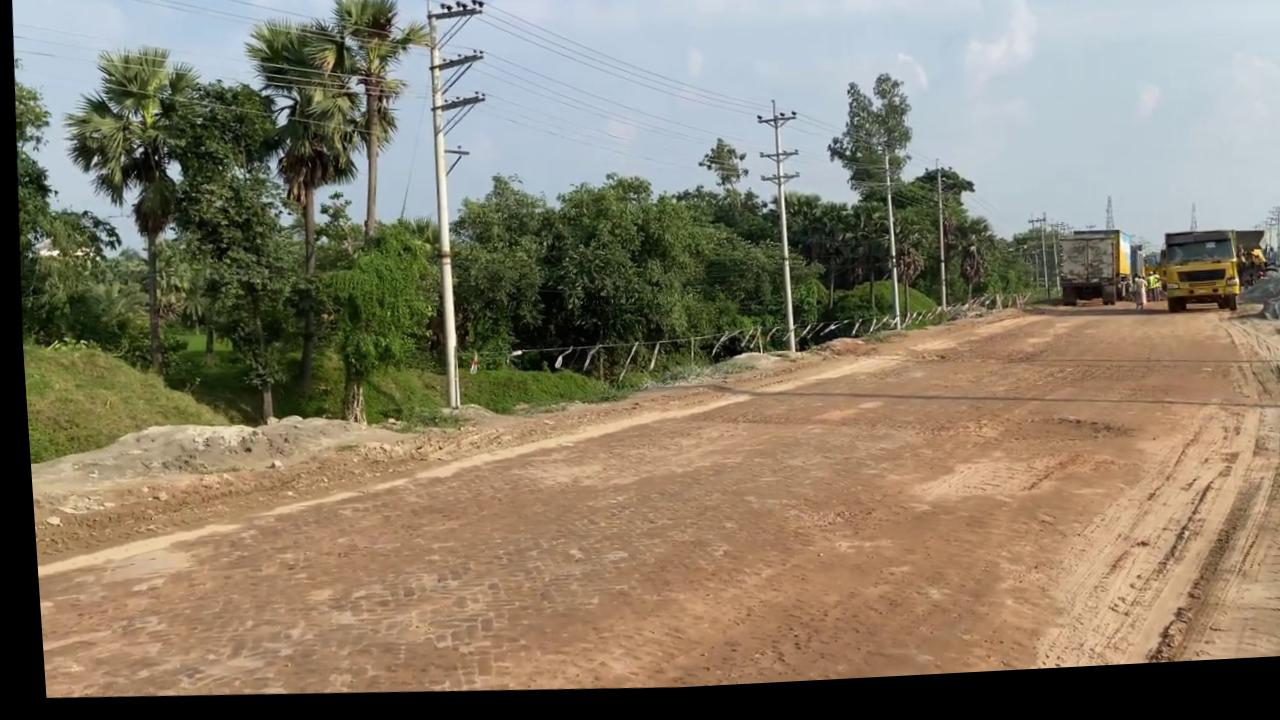Pole: (410, 0, 469, 415)
Traffic-sign: (228, 15, 380, 408), (47, 40, 220, 384), (813, 77, 923, 340)
Tree: (1048, 236, 1130, 320), (1226, 241, 1266, 304), (1273, 251, 1280, 303)
